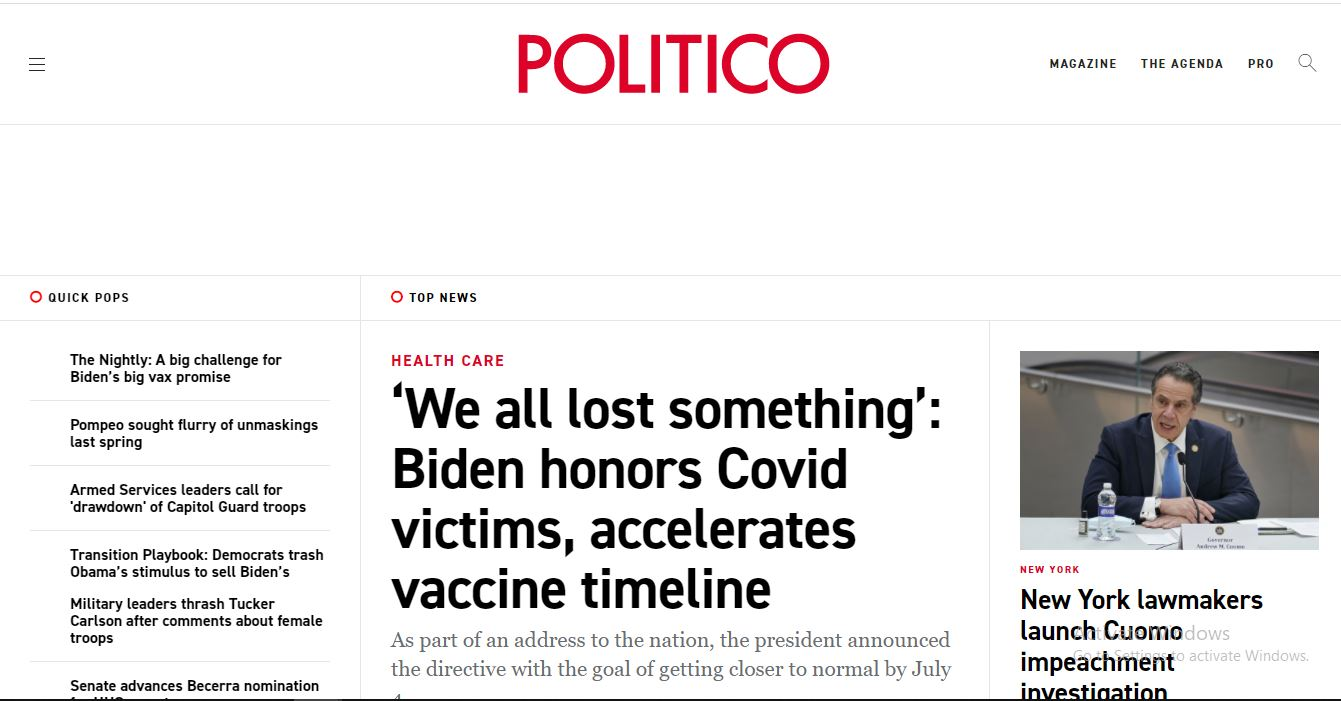Menu Bar: (1028, 30, 1284, 89)
Side Bar: (4, 263, 366, 701), (995, 289, 1341, 701)
